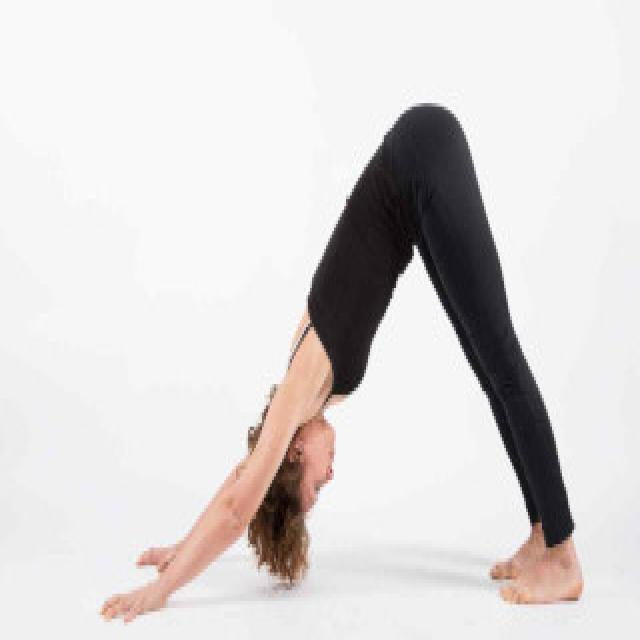yoga-pose downward: (103, 101, 590, 612)
